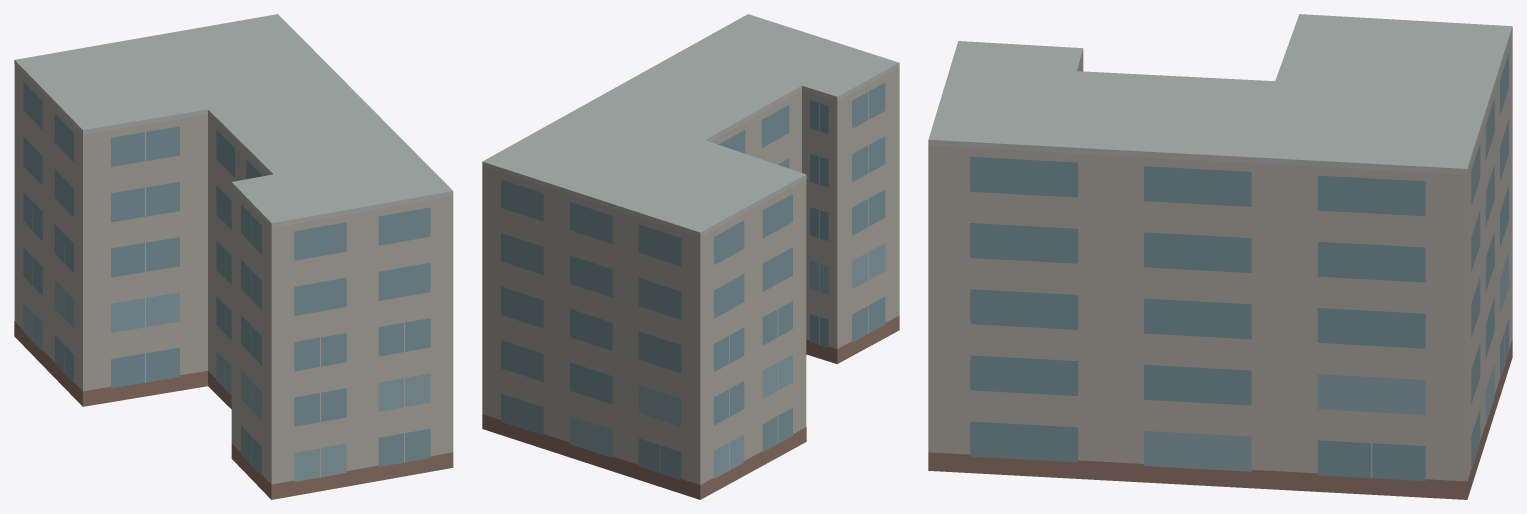
The model's file is survey-upis-32669186.glb.
3 renders of one model, left to right at view 1: azimuth 30°, elevation 25°; view 2: azimuth 150°, elevation 25°; view 3: azimuth 270°, elevation 25°, orthographic. The views are drawn at different scales.
Parts seen in each view (by area): view 1: survey-upis-32669186.tmp; view 2: survey-upis-32669186.tmp; view 3: survey-upis-32669186.tmp.
Boxes of the visible parts, x1=… form: survey-upis-32669186.tmp: x1=14, y1=14, x2=453, y2=499; survey-upis-32669186.tmp: x1=482, y1=14, x2=899, y2=499; survey-upis-32669186.tmp: x1=928, y1=14, x2=1512, y2=499.
Size of the model in its own units: 14.56 by 14.5 by 23.2.
